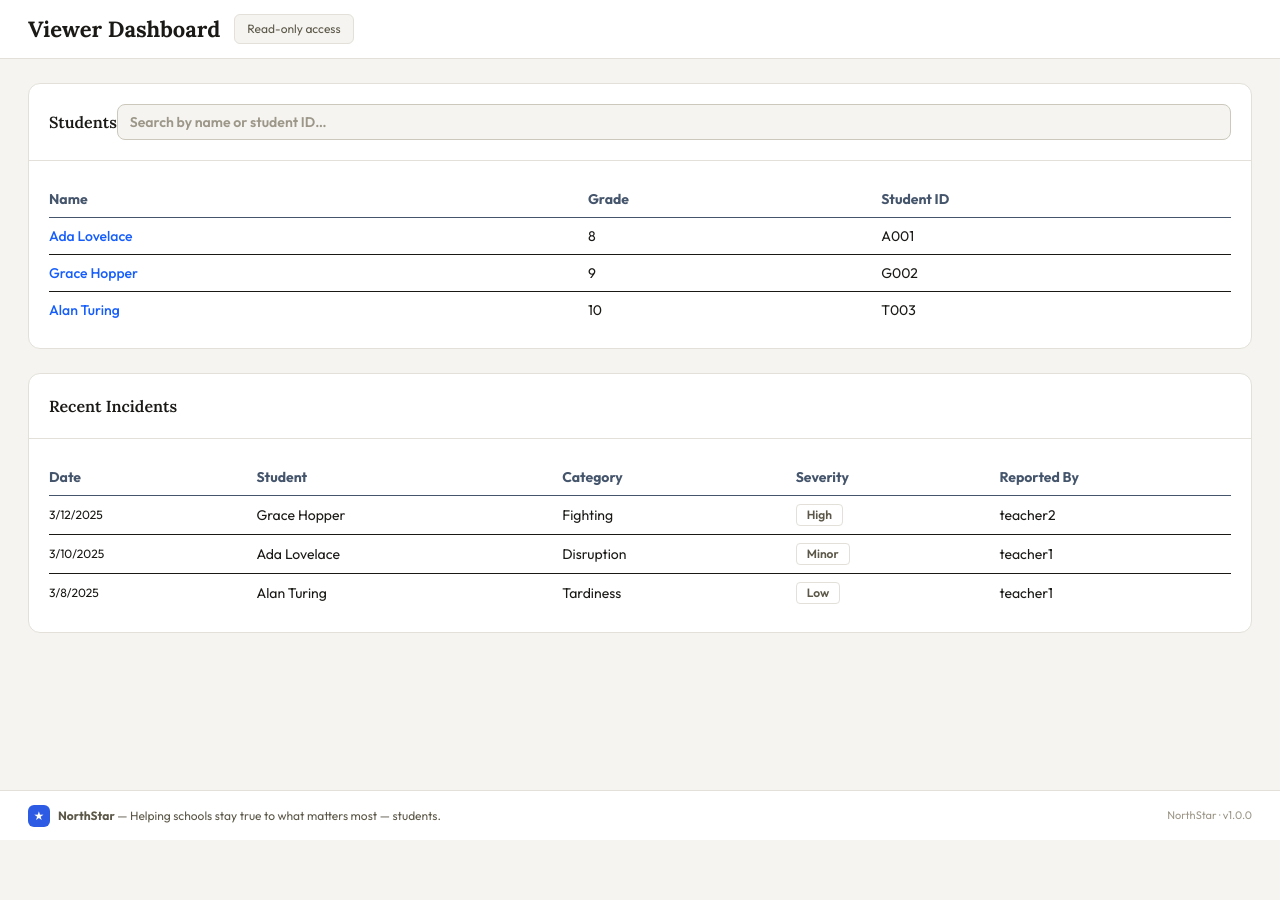
Test: ViewerDashboard › shows empty state when no students found after search
The width and height of the screenshot is (1280, 900).
Check: the link "Ada Lovelace" is shown, box [49,227,133,245]
Type "zzz-nobody" into the field with placeholder "Search by name or student ID…". click: (674, 122)
box: [117,104,1231,140]
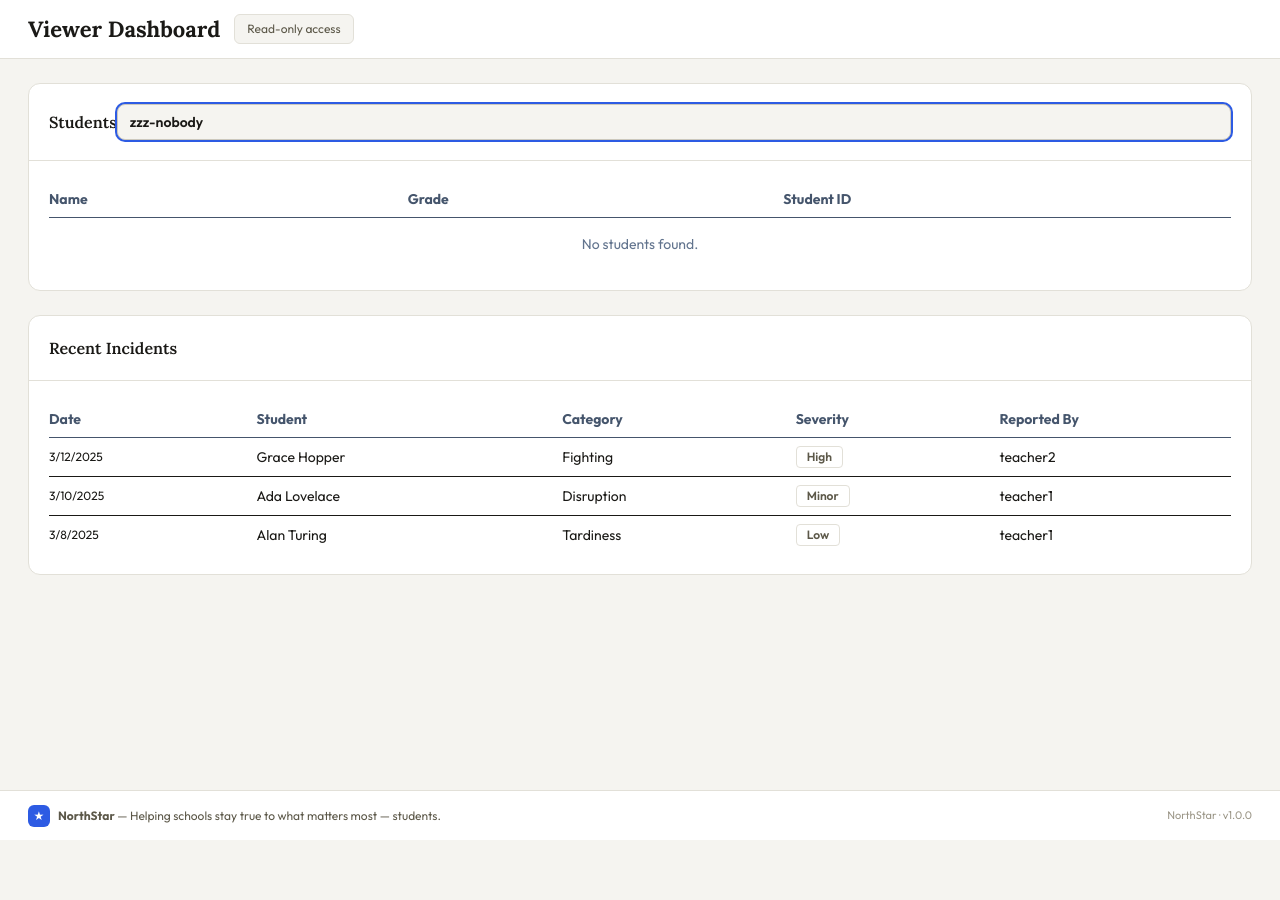
Check: the text "No students found." is shown, box [49,218,1231,270]
